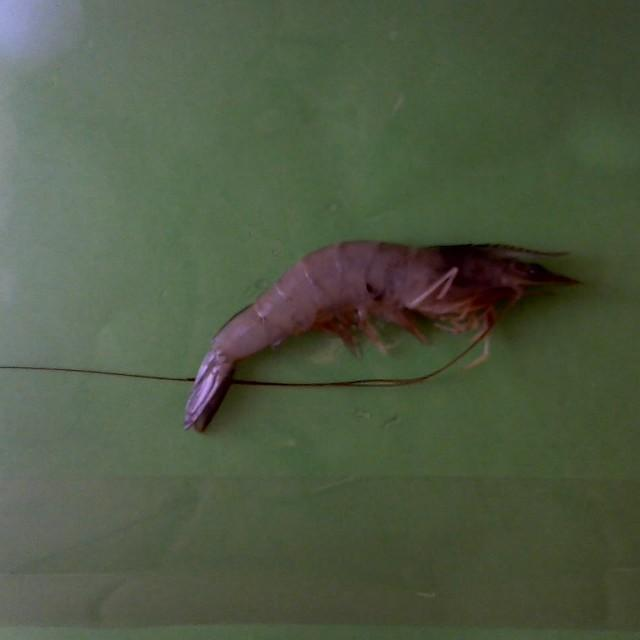shrimp: (185, 242, 577, 432)
